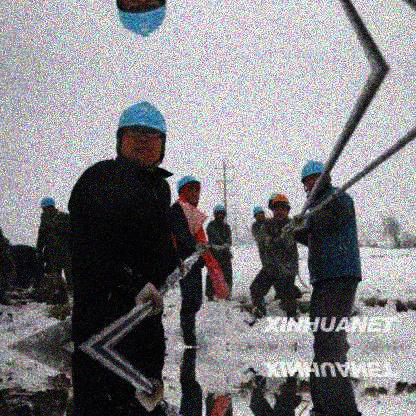helmet: (117, 99, 165, 166), (299, 162, 327, 193), (173, 177, 201, 205), (271, 193, 290, 218), (40, 196, 58, 215), (210, 203, 227, 221), (253, 206, 265, 222)
